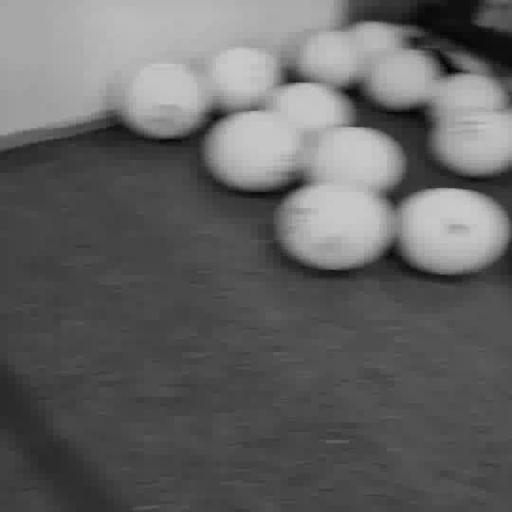fuel: (274, 183, 397, 270), (397, 188, 511, 275), (202, 110, 301, 192), (266, 83, 355, 169), (115, 62, 211, 139), (304, 127, 406, 193), (428, 110, 511, 178), (201, 48, 282, 113), (362, 49, 442, 111), (289, 29, 362, 88), (429, 73, 509, 121), (348, 22, 408, 83)
